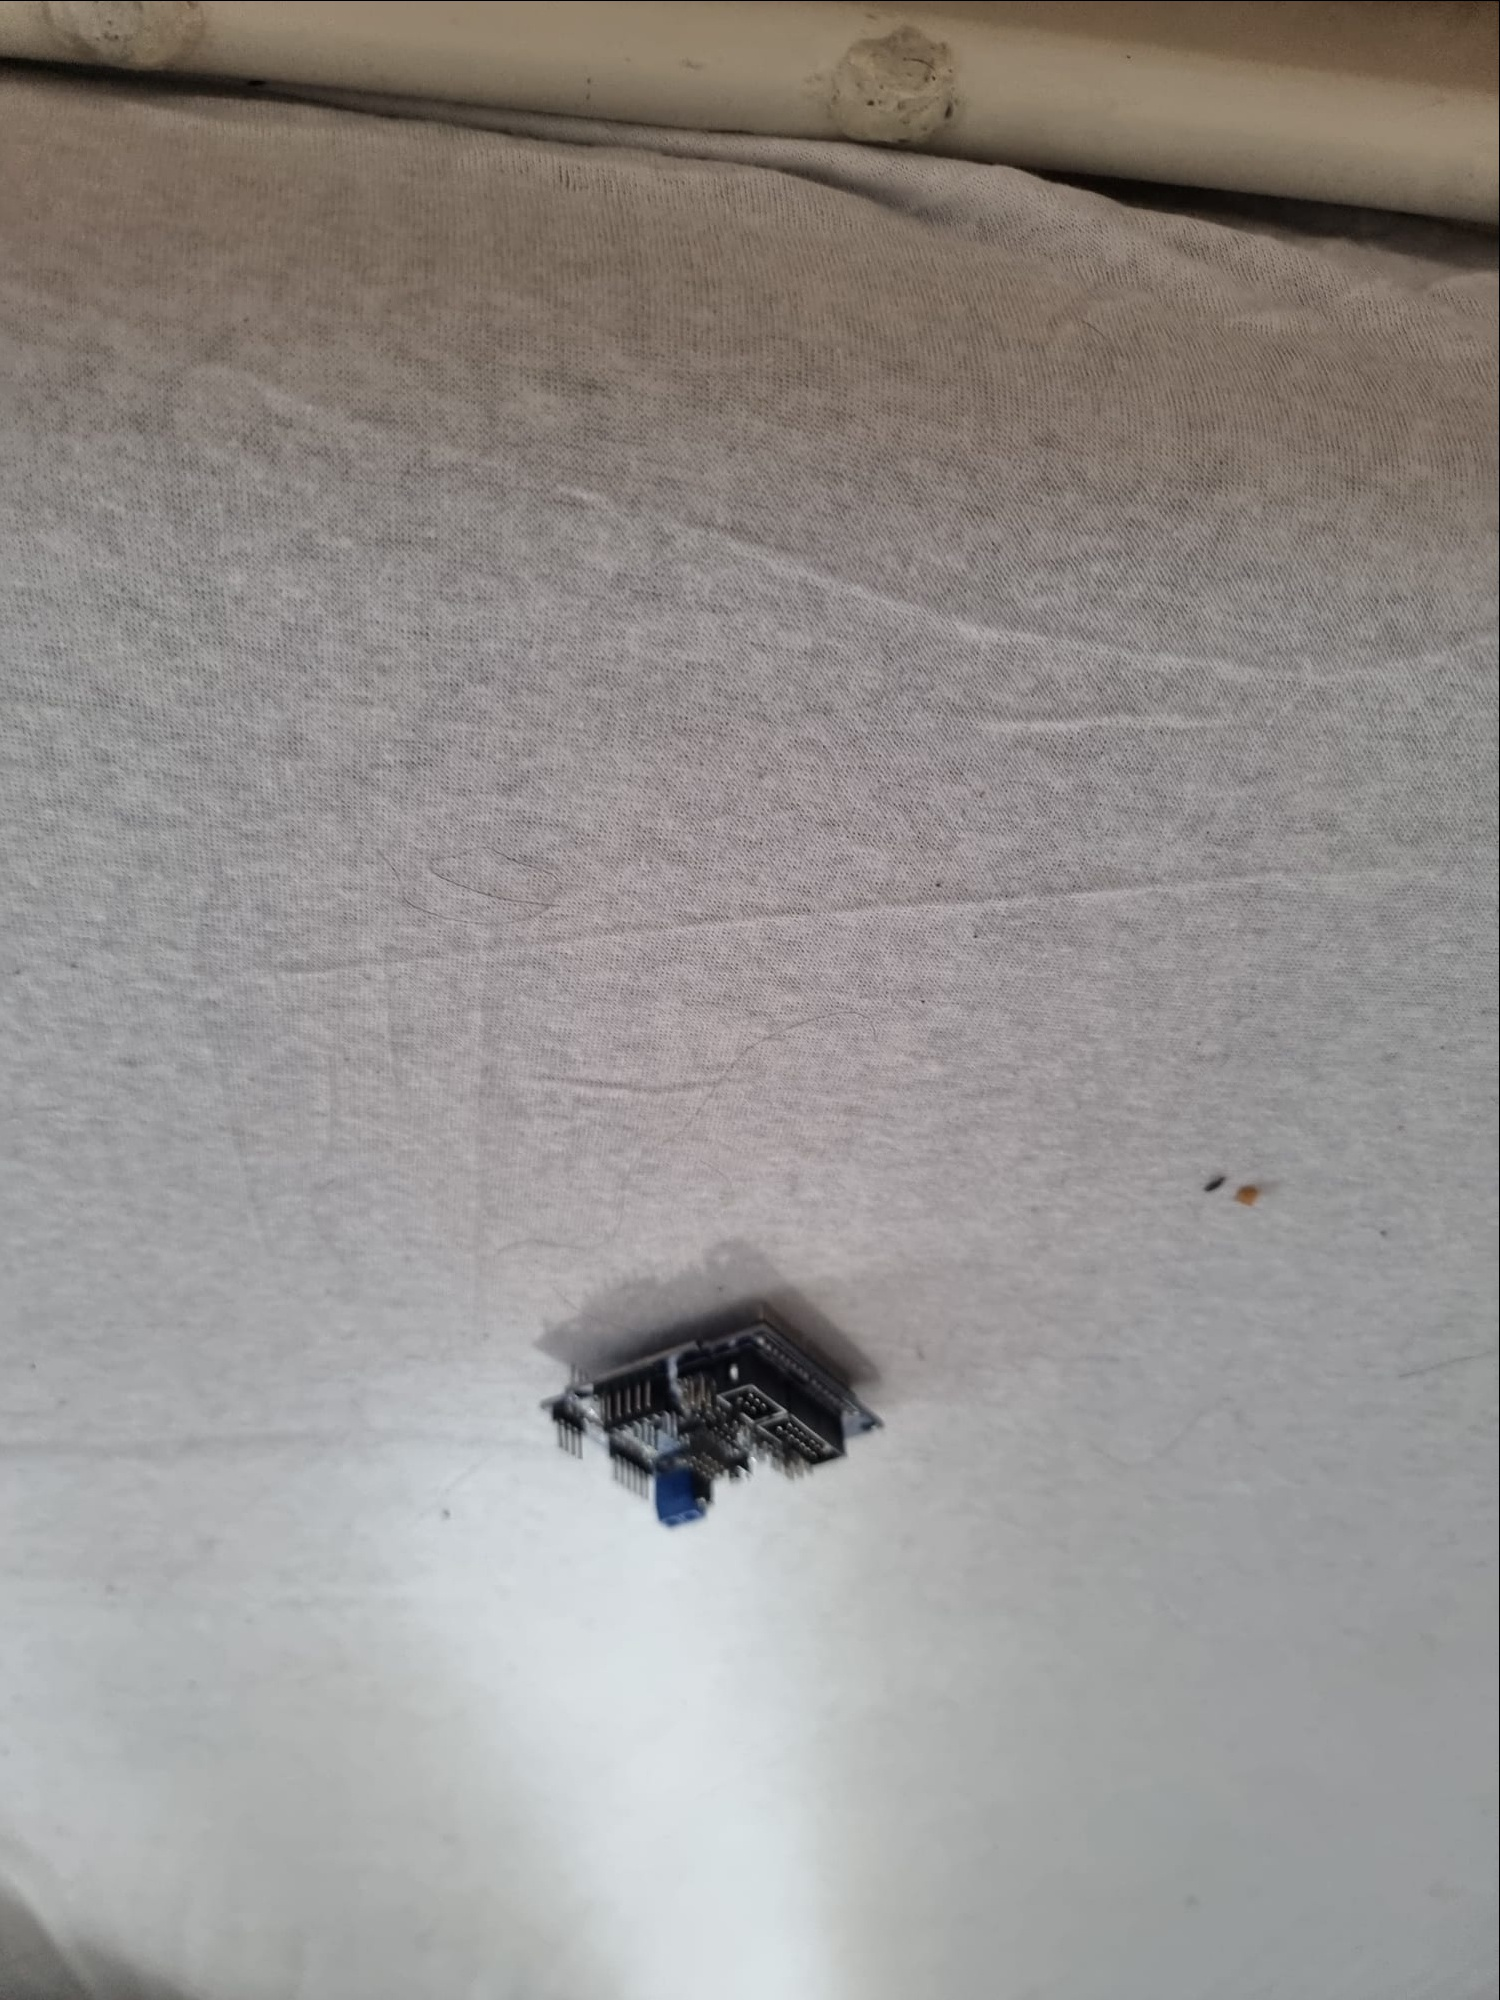5V EXPANSION: (537, 1315, 895, 1531)
